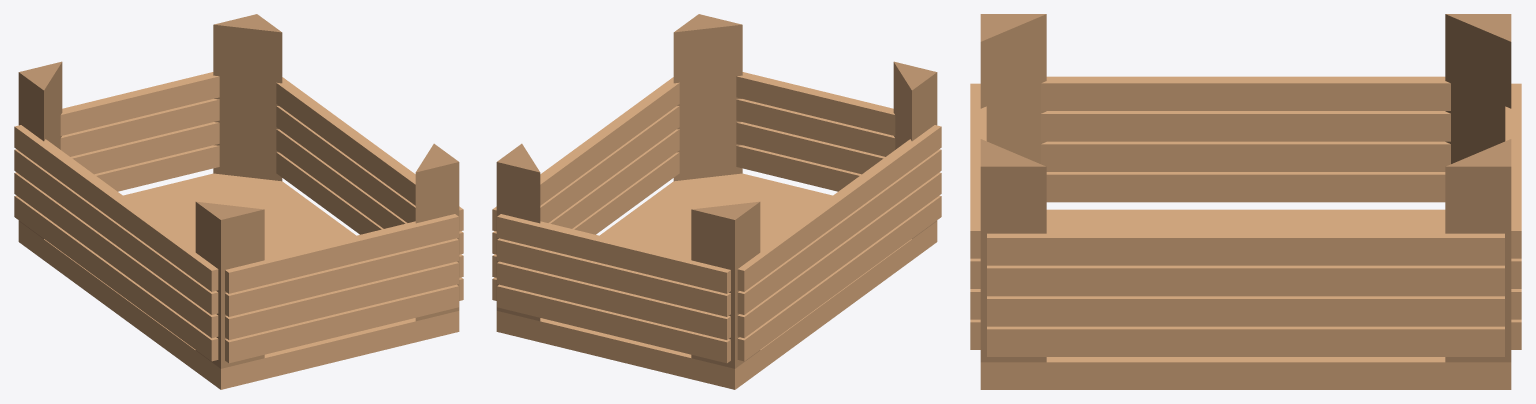
Rendered from CajaVerdura.fbx.
3 views of the same model, side by side, from view 1: azimuth 30°, elevation 25°; view 2: azimuth 150°, elevation 25°; view 3: azimuth 270°, elevation 25° (orthographic). The views are drawn at different scales.
Visible parts, largest first — view 1: Cube.007, Cube.006, Cube, Cube.008, Cube.005, Cube.004, Cube.002, Cube.003, Cube.001; view 2: Cube.008, Cube.006, Cube, Cube.007, Cube.005, Cube.001, Cube.003, Cube.002, Cube.004; view 3: Cube.005, Cube.006, Cube, Cube.002, Cube.003, Cube.001, Cube.004, Cube.007, Cube.008.
Boxes of the visible parts, bbox=[...] form: Cube.007: bbox=[225, 214, 458, 363]; Cube.006: bbox=[14, 125, 218, 361]; Cube: bbox=[18, 173, 459, 389]; Cube.008: bbox=[60, 72, 219, 191]; Cube.005: bbox=[276, 77, 463, 300]; Cube.004: bbox=[213, 14, 282, 181]; Cube.002: bbox=[195, 201, 264, 368]; Cube.003: bbox=[18, 61, 62, 238]; Cube.001: bbox=[415, 143, 459, 321]; Cube.008: bbox=[497, 214, 730, 363]; Cube.006: bbox=[737, 125, 941, 361]; Cube: bbox=[496, 173, 937, 389]; Cube.007: bbox=[736, 72, 895, 191]; Cube.005: bbox=[492, 77, 679, 300]; Cube.001: bbox=[673, 14, 742, 181]; Cube.003: bbox=[691, 201, 760, 368]; Cube.002: bbox=[893, 61, 937, 238]; Cube.004: bbox=[496, 143, 540, 321]; Cube.005: bbox=[987, 231, 1504, 356]; Cube.006: bbox=[1041, 76, 1450, 202]; Cube: bbox=[980, 209, 1511, 389]; Cube.002: bbox=[980, 14, 1046, 163]; Cube.003: bbox=[1445, 14, 1511, 163]; Cube.001: bbox=[980, 139, 1046, 362]; Cube.004: bbox=[1445, 139, 1511, 362]; Cube.007: bbox=[970, 83, 986, 349]; Cube.008: bbox=[1505, 83, 1521, 349].
Size of the model in its own units: 276 by 178 by 399.
